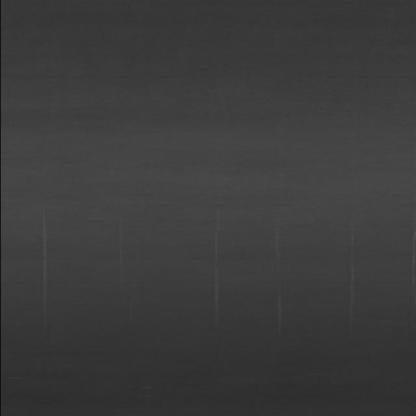waist_folding: (0, 224, 398, 365)
